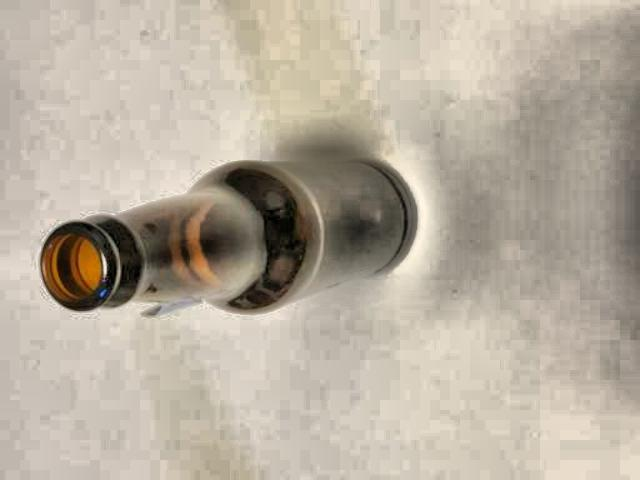Bottles: (0, 134, 432, 337)
